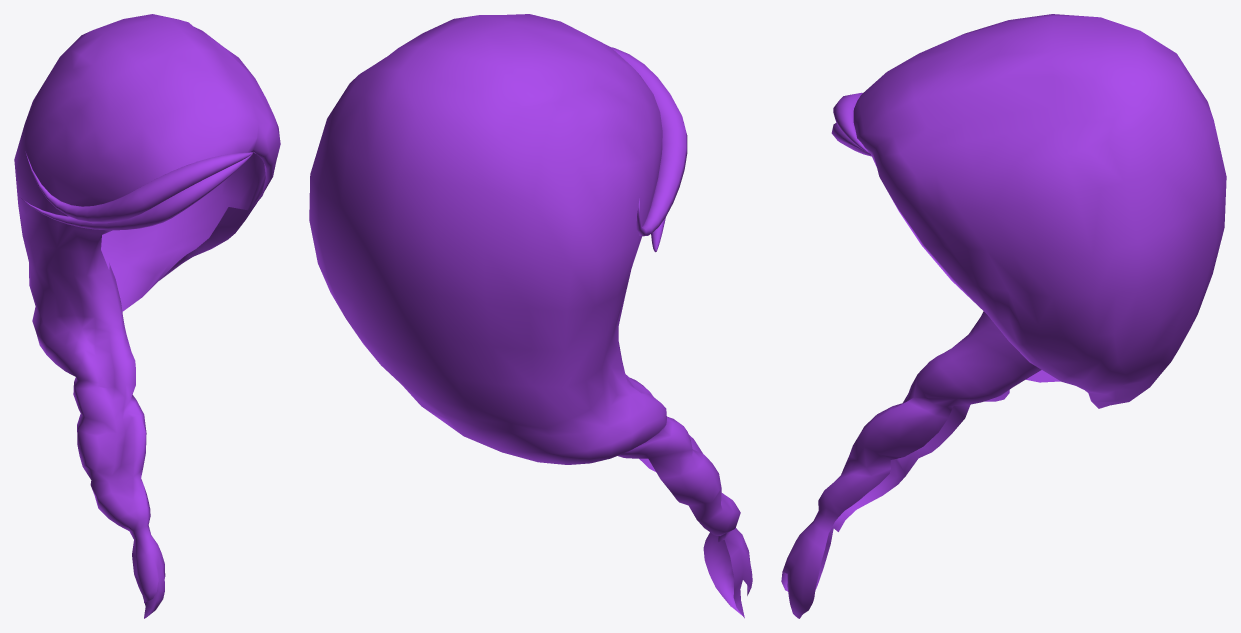
File: Hair-purple.fbx
3 views of the same model, side by side, from view 1: azimuth 30°, elevation 25°; view 2: azimuth 150°, elevation 25°; view 3: azimuth 270°, elevation 25° (orthographic). The views are drawn at different scales.
Visible parts, largest first — view 1: Hairstyle1; view 2: Hairstyle1; view 3: Hairstyle1.
Part boxes in pixels (bbox=[...]): Hairstyle1: bbox=[14, 14, 280, 618]; Hairstyle1: bbox=[309, 14, 752, 618]; Hairstyle1: bbox=[781, 14, 1226, 618].
Size of the model in its own units: 32.27 by 62.18 by 38.3.
